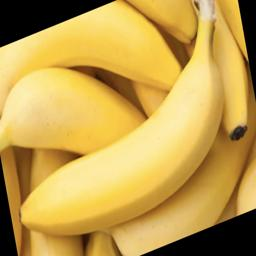Banana Fresh: (42, 13, 256, 195)
